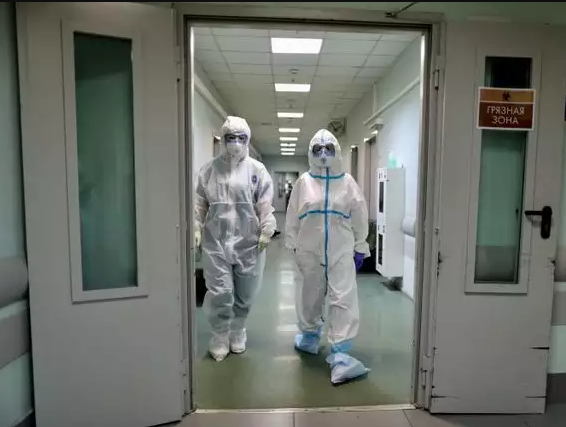Coverall: (193, 115, 278, 340), (284, 129, 367, 358)
with_mask: (225, 133, 248, 160)
